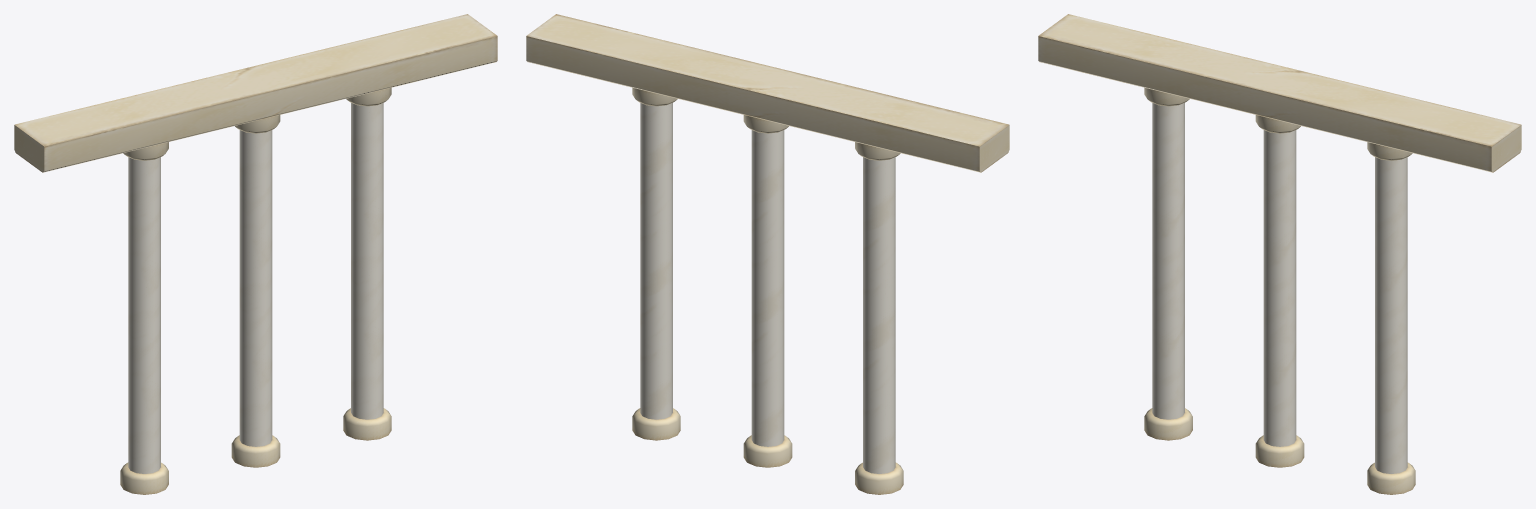
Rendered from Med_fence.fbx.
The picture shows the model from 3 angles, left to right: view 1: azimuth 30°, elevation 25°; view 2: azimuth 150°, elevation 25°; view 3: azimuth 330°, elevation 25°; orthographic projection.
Visible parts, largest first — view 1: Med_fence; view 2: Med_fence; view 3: Med_fence.
Boxes of the visible parts, bbox=[...] form: Med_fence: bbox=[14, 14, 497, 494]; Med_fence: bbox=[526, 14, 1009, 494]; Med_fence: bbox=[1038, 14, 1521, 494].
Size of the model in its own units: 3.94 by 3.13 by 0.4518.
